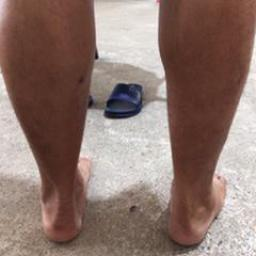Back View -Both Feet-: (16, 122, 236, 248)
